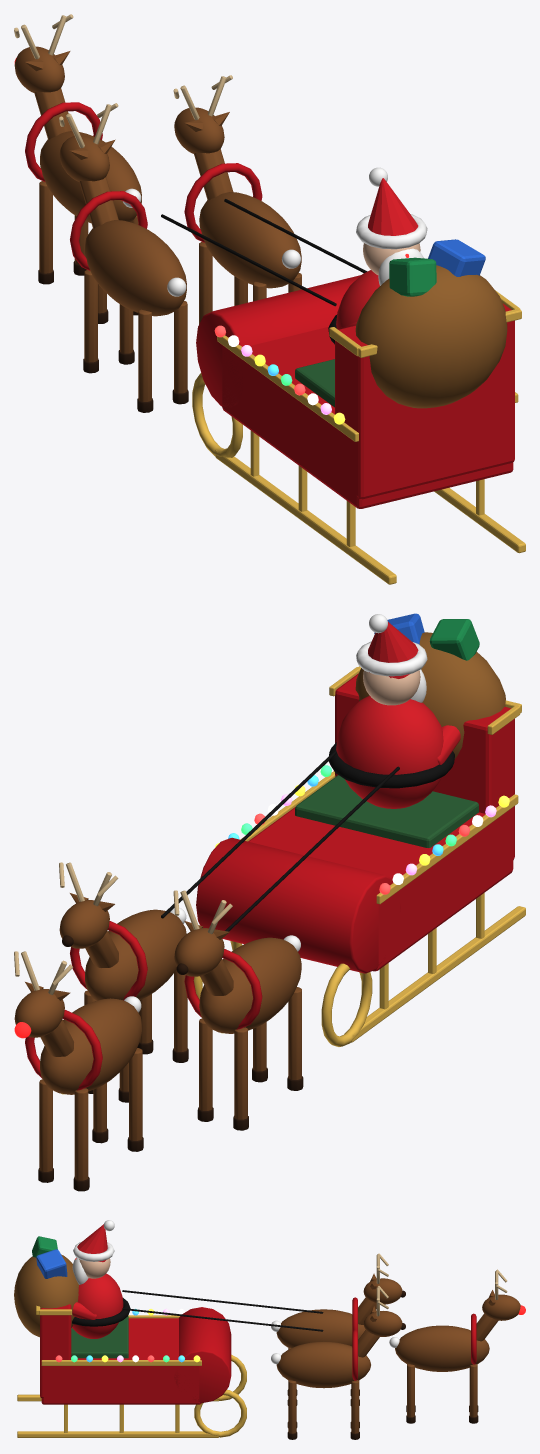
File: sleigh.glb
3 views of the same model, one above another, from view 1: azimuth 30°, elevation 25°; view 2: azimuth 150°, elevation 25°; view 3: azimuth 270°, elevation 25° (orthographic). The views are drawn at different scales.
Visible parts, largest first — view 1: sleigh; view 2: sleigh; view 3: sleigh.
Boxes of the visible parts, x1,y1,x2,y2 form: sleigh: [14, 14, 525, 584]; sleigh: [14, 613, 525, 1191]; sleigh: [14, 1220, 525, 1439].
Size of the model in its own units: 1.84 by 3.14 by 7.35.
